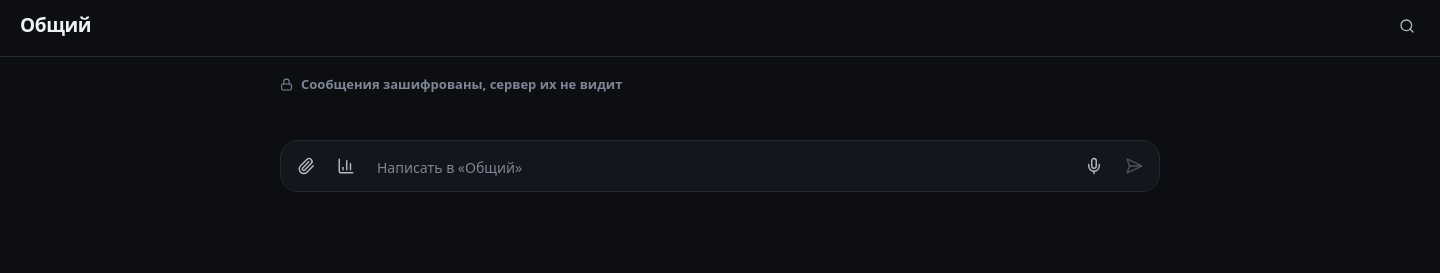
Test: mentions › @ and letters list the people, Enter puts one in, and it goes as <@id>
Later steps or results of the test are not shown.
Type "@Ан" into the text box.
click(720, 168); type("@Ан")  # box [367, 150, 1073, 185]
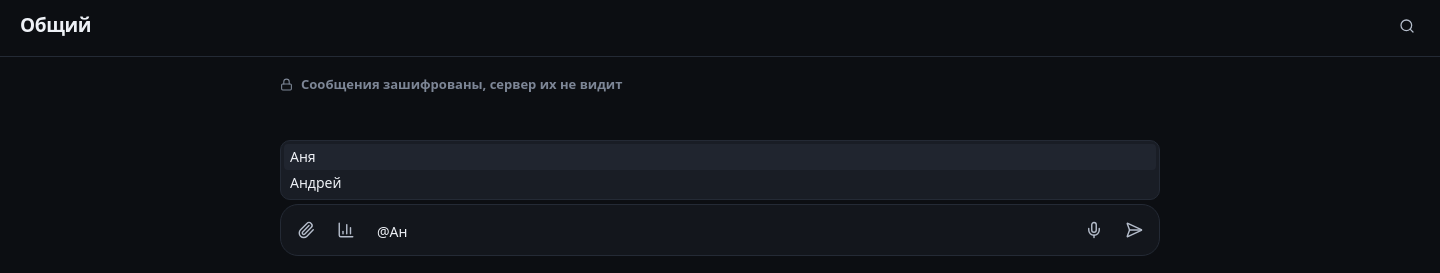
Check: the options read "Аня", "Андрей", in this order, box [284, 144, 1156, 170]; [290, 173, 342, 192]
Press ArrowDown in the text box, box [367, 215, 1073, 249]
Press Enter in the text box, box [367, 215, 1073, 249]
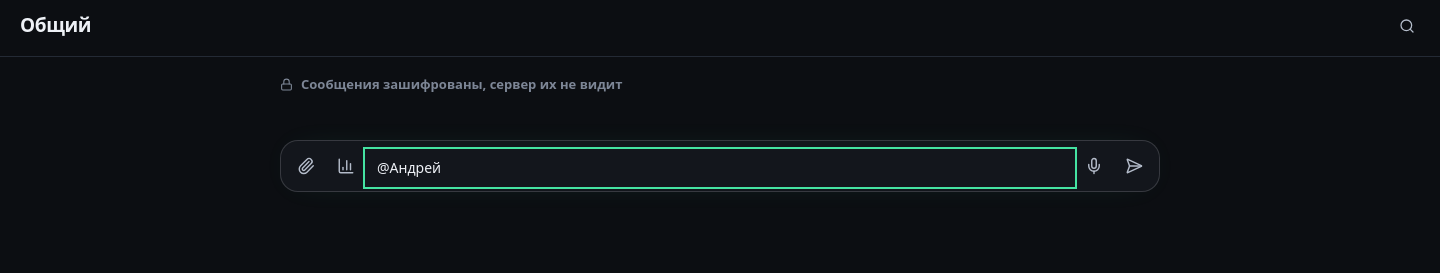
Check: the text box holds "@Андрей ", box [367, 150, 1073, 185]
Check: the list "Упомянуть" is gone
